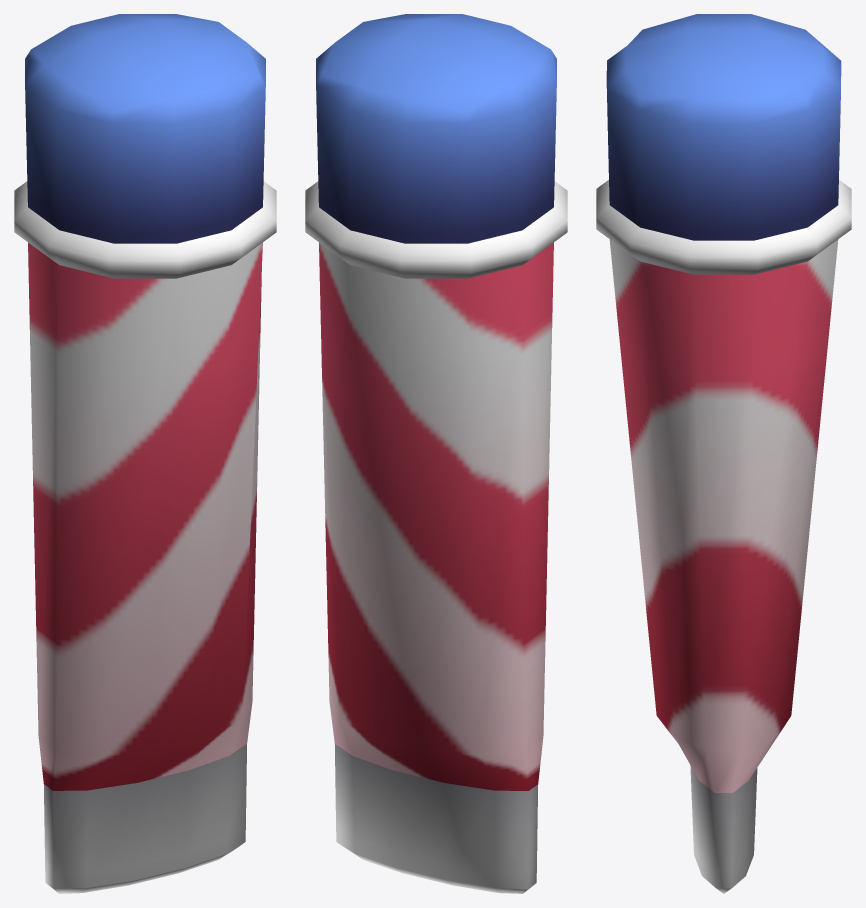
The model's file is m_PushPop06.fbx.
3 renders of one model, left to right at view 1: azimuth 30°, elevation 25°; view 2: azimuth 150°, elevation 25°; view 3: azimuth 270°, elevation 25°, orthographic. The views are drawn at different scales.
Parts seen in each view (by area): view 1: m_PushPop06; view 2: m_PushPop06; view 3: m_PushPop06.
Boxes of the visible parts, <box> form: m_PushPop06: <box>14,14,276,893</box>; m_PushPop06: <box>305,14,567,893</box>; m_PushPop06: <box>596,14,851,893</box>.
Bounding box in the file's own units: 6.5 × 22.79 × 6.5.
